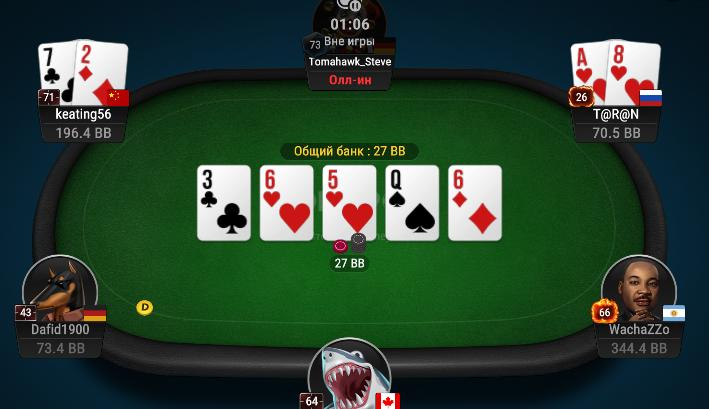2d: (74, 39, 127, 106)
3c: (197, 166, 251, 239)
5h: (323, 167, 377, 242)
6d: (449, 166, 502, 239)
6h: (261, 166, 313, 241)
7c: (37, 43, 75, 105)
8h: (607, 39, 659, 104)
Ah: (571, 43, 607, 104)
Qs: (385, 166, 439, 240)
